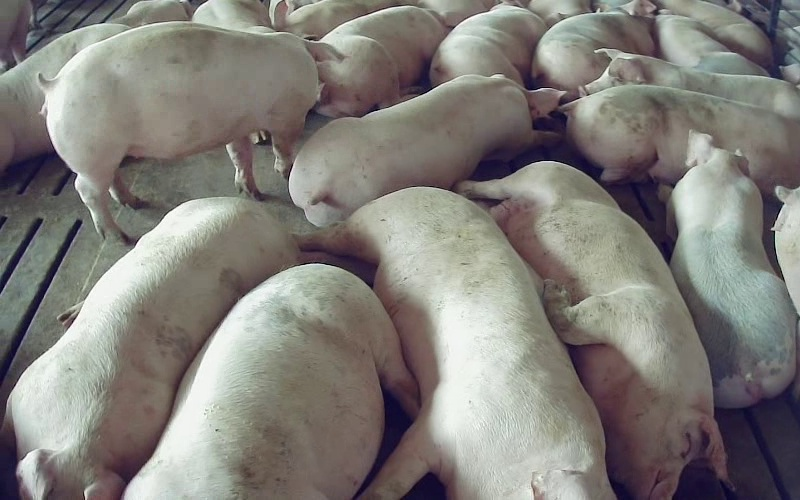pig: (297, 188, 613, 499), (457, 162, 727, 499), (2, 197, 298, 499), (124, 264, 417, 499), (41, 22, 337, 239), (289, 75, 562, 225), (660, 131, 796, 407), (562, 85, 799, 193), (0, 24, 128, 171), (578, 48, 799, 121), (316, 6, 449, 117), (430, 5, 546, 85), (655, 0, 773, 69), (654, 10, 768, 75)
